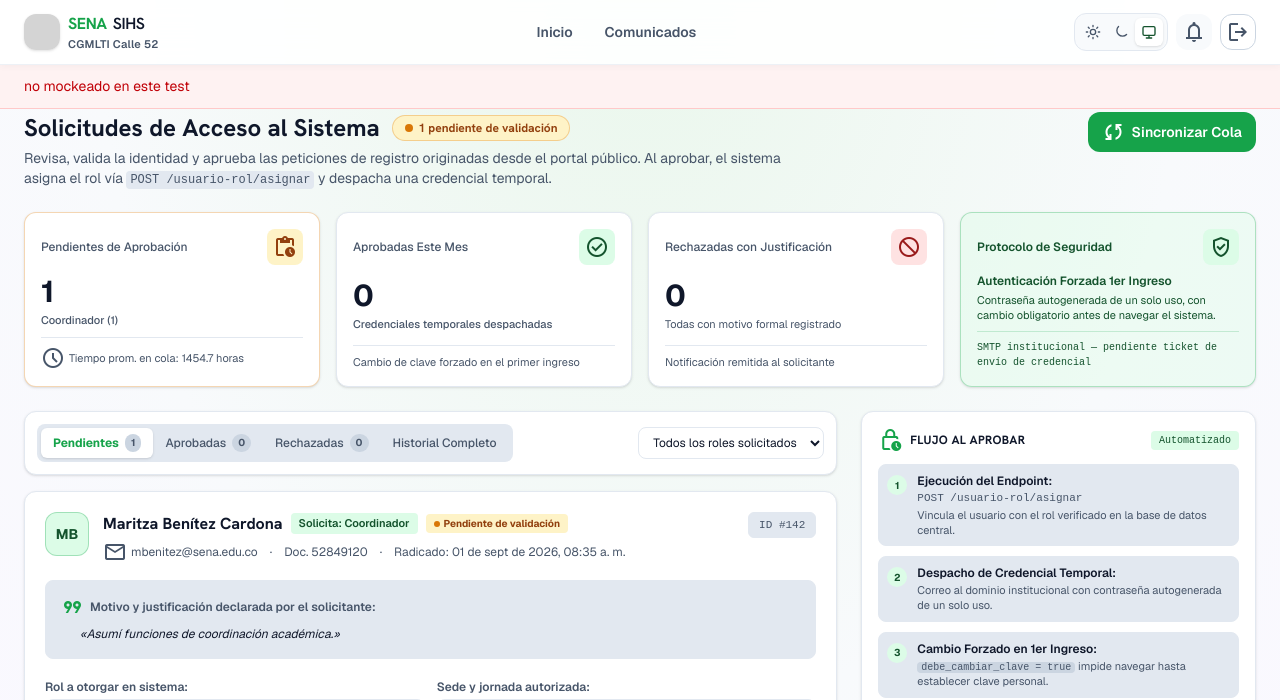
Test case: PanelAdministracion › filtro secundario por rol solicitado
This screenshot has width=1280, height=700.
Expected: the heading "Maritza Benítez Cardona" is shown, [103, 512, 282, 536]
Step 1. Select "Rol: Instructor" in the dropdown showing "Todos los roles solicitados" → (731, 443), box [638, 427, 824, 459]
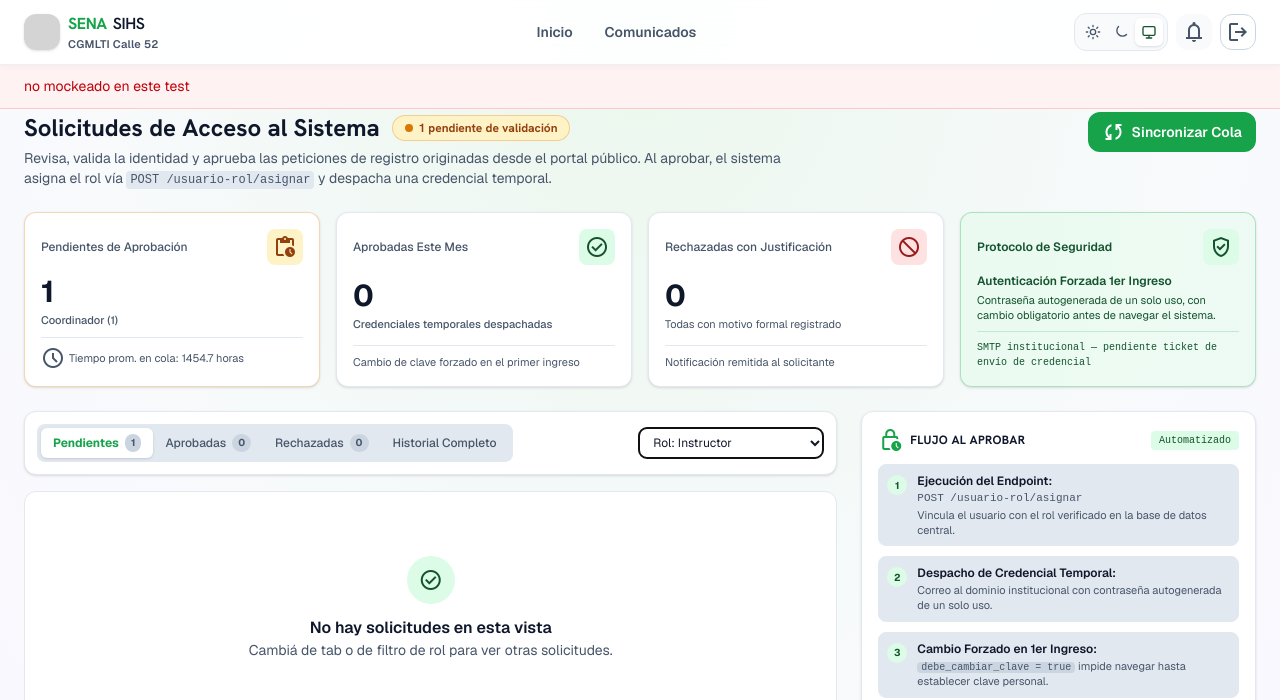
Now the heading "Maritza Benítez Cardona" is gone
